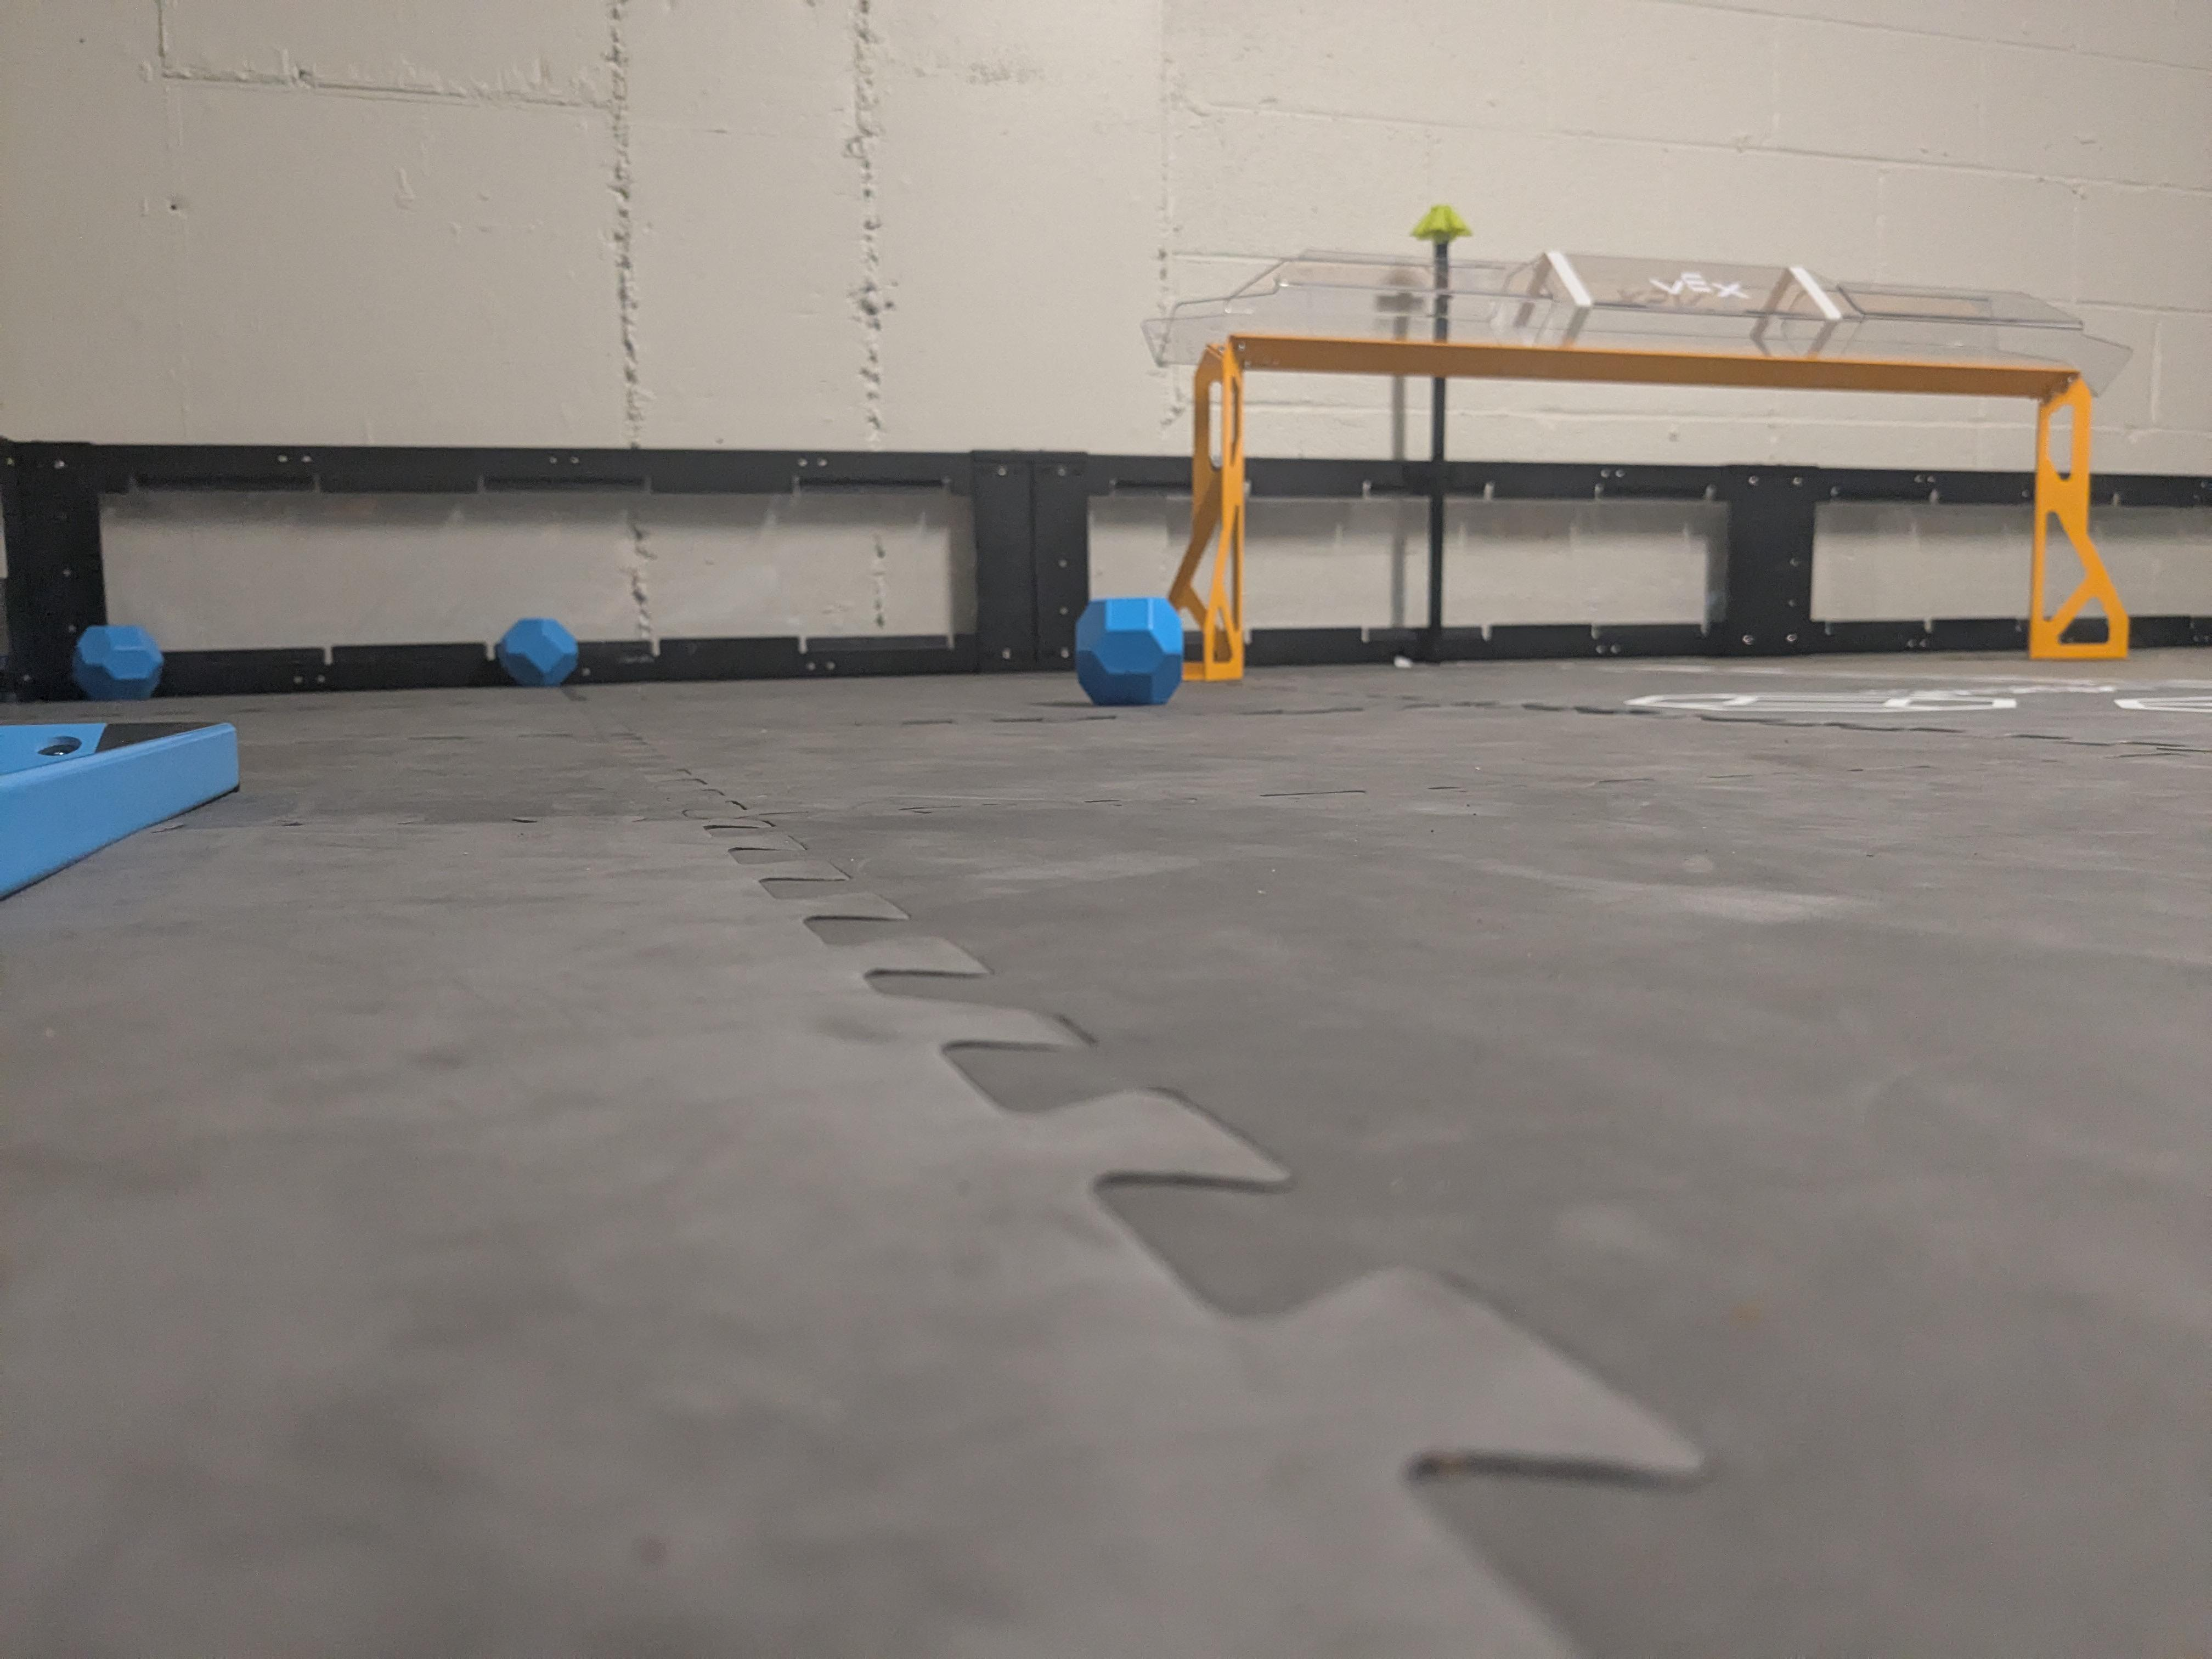Vex-Pieces-BLUE: (7, 725, 239, 894), (1075, 596, 1184, 704), (496, 619, 577, 685)
